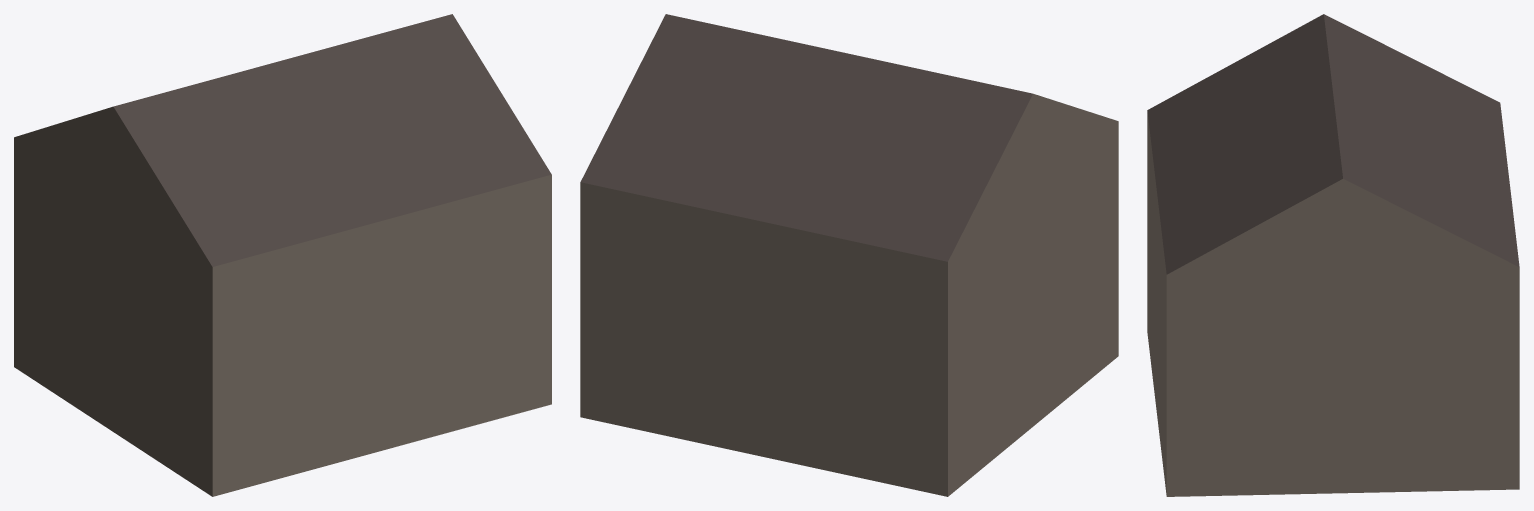
3 views of the same model, side by side, from view 1: azimuth 30°, elevation 25°; view 2: azimuth 150°, elevation 25°; view 3: azimuth 270°, elevation 25° (orthographic). The views are drawn at different scales.
Parts seen in each view (by area): view 1: HP-w369317529; view 2: HP-w369317529; view 3: HP-w369317529.
Part boxes in pixels (x1,y1,x2,y2): HP-w369317529: [14, 14, 551, 496]; HP-w369317529: [580, 14, 1118, 496]; HP-w369317529: [1147, 14, 1519, 496].
Bounding box in the file's own units: 14.96 × 12.75 × 13.67.
